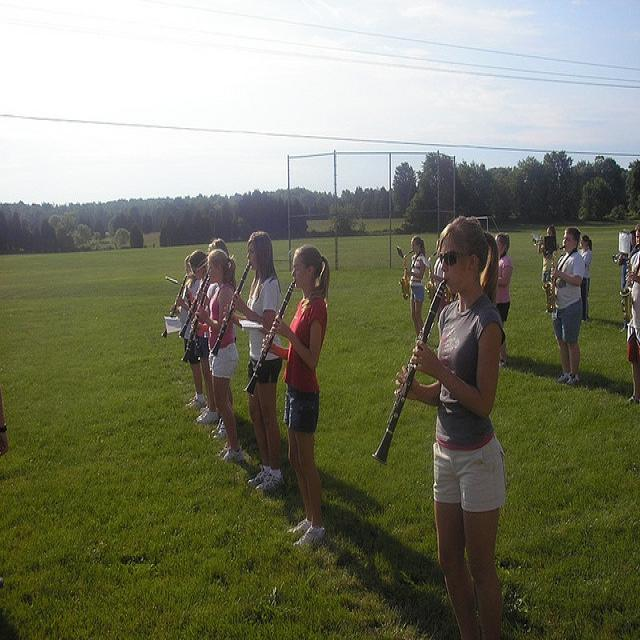clarinet: (368, 276, 449, 468), (242, 278, 297, 393), (210, 262, 253, 362), (181, 263, 213, 368), (162, 277, 189, 336)
